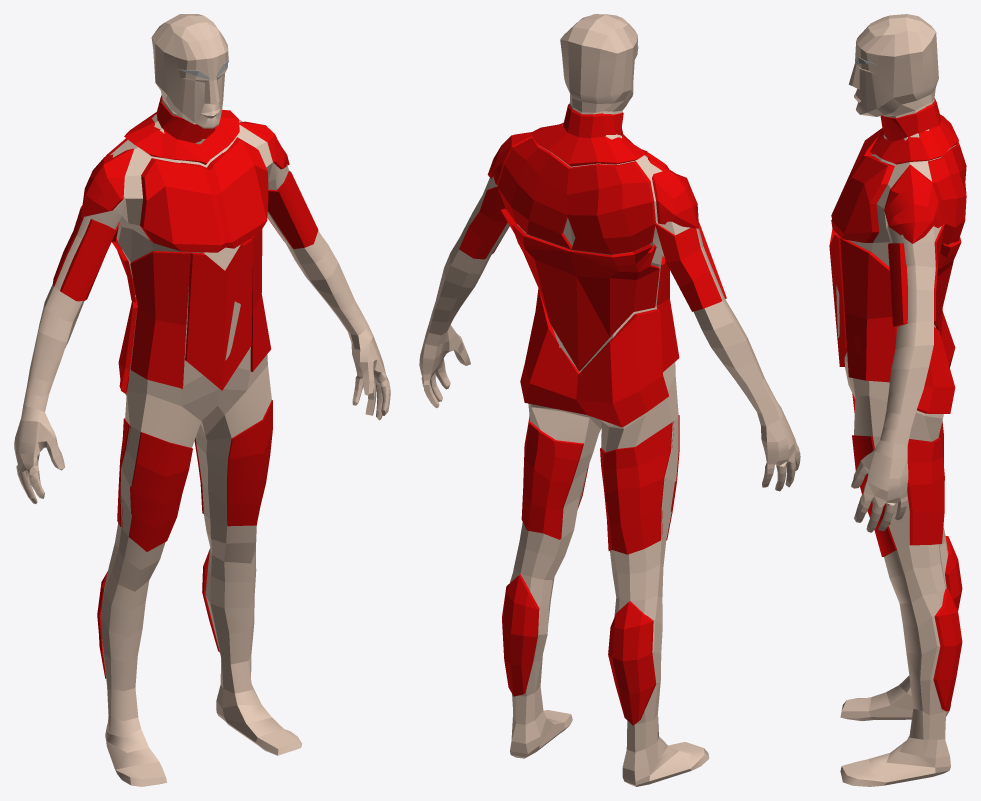
File: Human_Body_v2.fbx
3 renders of one model, left to right at view 1: azimuth 30°, elevation 25°; view 2: azimuth 150°, elevation 25°; view 3: azimuth 270°, elevation 25°, orthographic.
Parts seen in each view (by area): view 1: full_body1, Pectorals, Quadriceps, Obliques, Abdominus, Head, Biceps, TrapeZius, Deltiods, Gluteals, Gastrocnemius; view 2: full_body1, Rhomboids, Abductors, Gluteals, Latissimus_Dorsi, Gastrocnemius, Head, Triceps, TrapeZius, Deltiods, Obliques; view 3: full_body1, Head, Obliques, Abductors, Pectorals, TrapeZius, Gastrocnemius, Deltiods, Rhomboids, Gluteals, Biceps, Abdominus (+3 smaller).
Part boxes in pixels (box(x1,y1,x2,y2)): full_body1: box(14, 99, 390, 786); Pectorals: box(140, 137, 268, 252); Quadriceps: box(128, 400, 272, 551); Obliques: box(130, 229, 270, 388); Abdominus: box(185, 238, 253, 390); Head: box(151, 14, 228, 128); Biceps: box(60, 170, 318, 301); TrapeZius: box(124, 95, 239, 164); Deltiods: box(81, 121, 289, 217); Gluteals: box(118, 297, 137, 394); Gastrocnemius: box(97, 549, 219, 678); full_body1: box(419, 102, 800, 786); Rhomboids: box(497, 137, 655, 254); Abductors: box(521, 416, 673, 554); Gluteals: box(520, 288, 668, 427); Latissimus_Dorsi: box(501, 208, 659, 371); Gastrocnemius: box(502, 574, 656, 725); Head: box(560, 14, 637, 112); Triceps: box(459, 186, 722, 311); TrapeZius: box(530, 104, 647, 166); Deltiods: box(487, 132, 698, 228); Obliques: box(656, 256, 679, 371); full_body1: box(836, 99, 955, 786); Head: box(848, 14, 938, 116); Obliques: box(840, 238, 896, 382); Abductors: box(907, 421, 944, 545); Pectorals: box(831, 128, 894, 242); TrapeZius: box(870, 98, 958, 164); Gastrocnemius: box(933, 536, 962, 711); Deltiods: box(884, 164, 942, 243); Rhomboids: box(928, 142, 966, 244); Gluteals: box(917, 311, 955, 413); Biceps: box(888, 243, 907, 326); Abdominus: box(829, 229, 847, 366).
Size of the model in its own units: 0.9494 by 1.82 by 0.3106.
